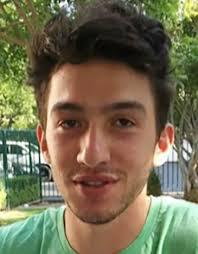face: (46, 62, 154, 223)
